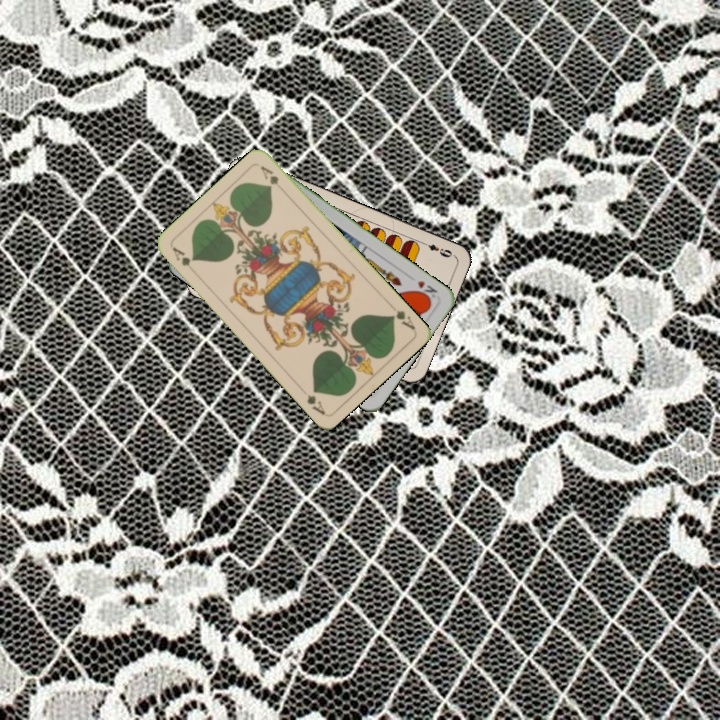E9: (417, 238, 456, 260)
GA: (385, 299, 418, 332), (168, 243, 196, 269)
HK: (412, 277, 440, 303)
